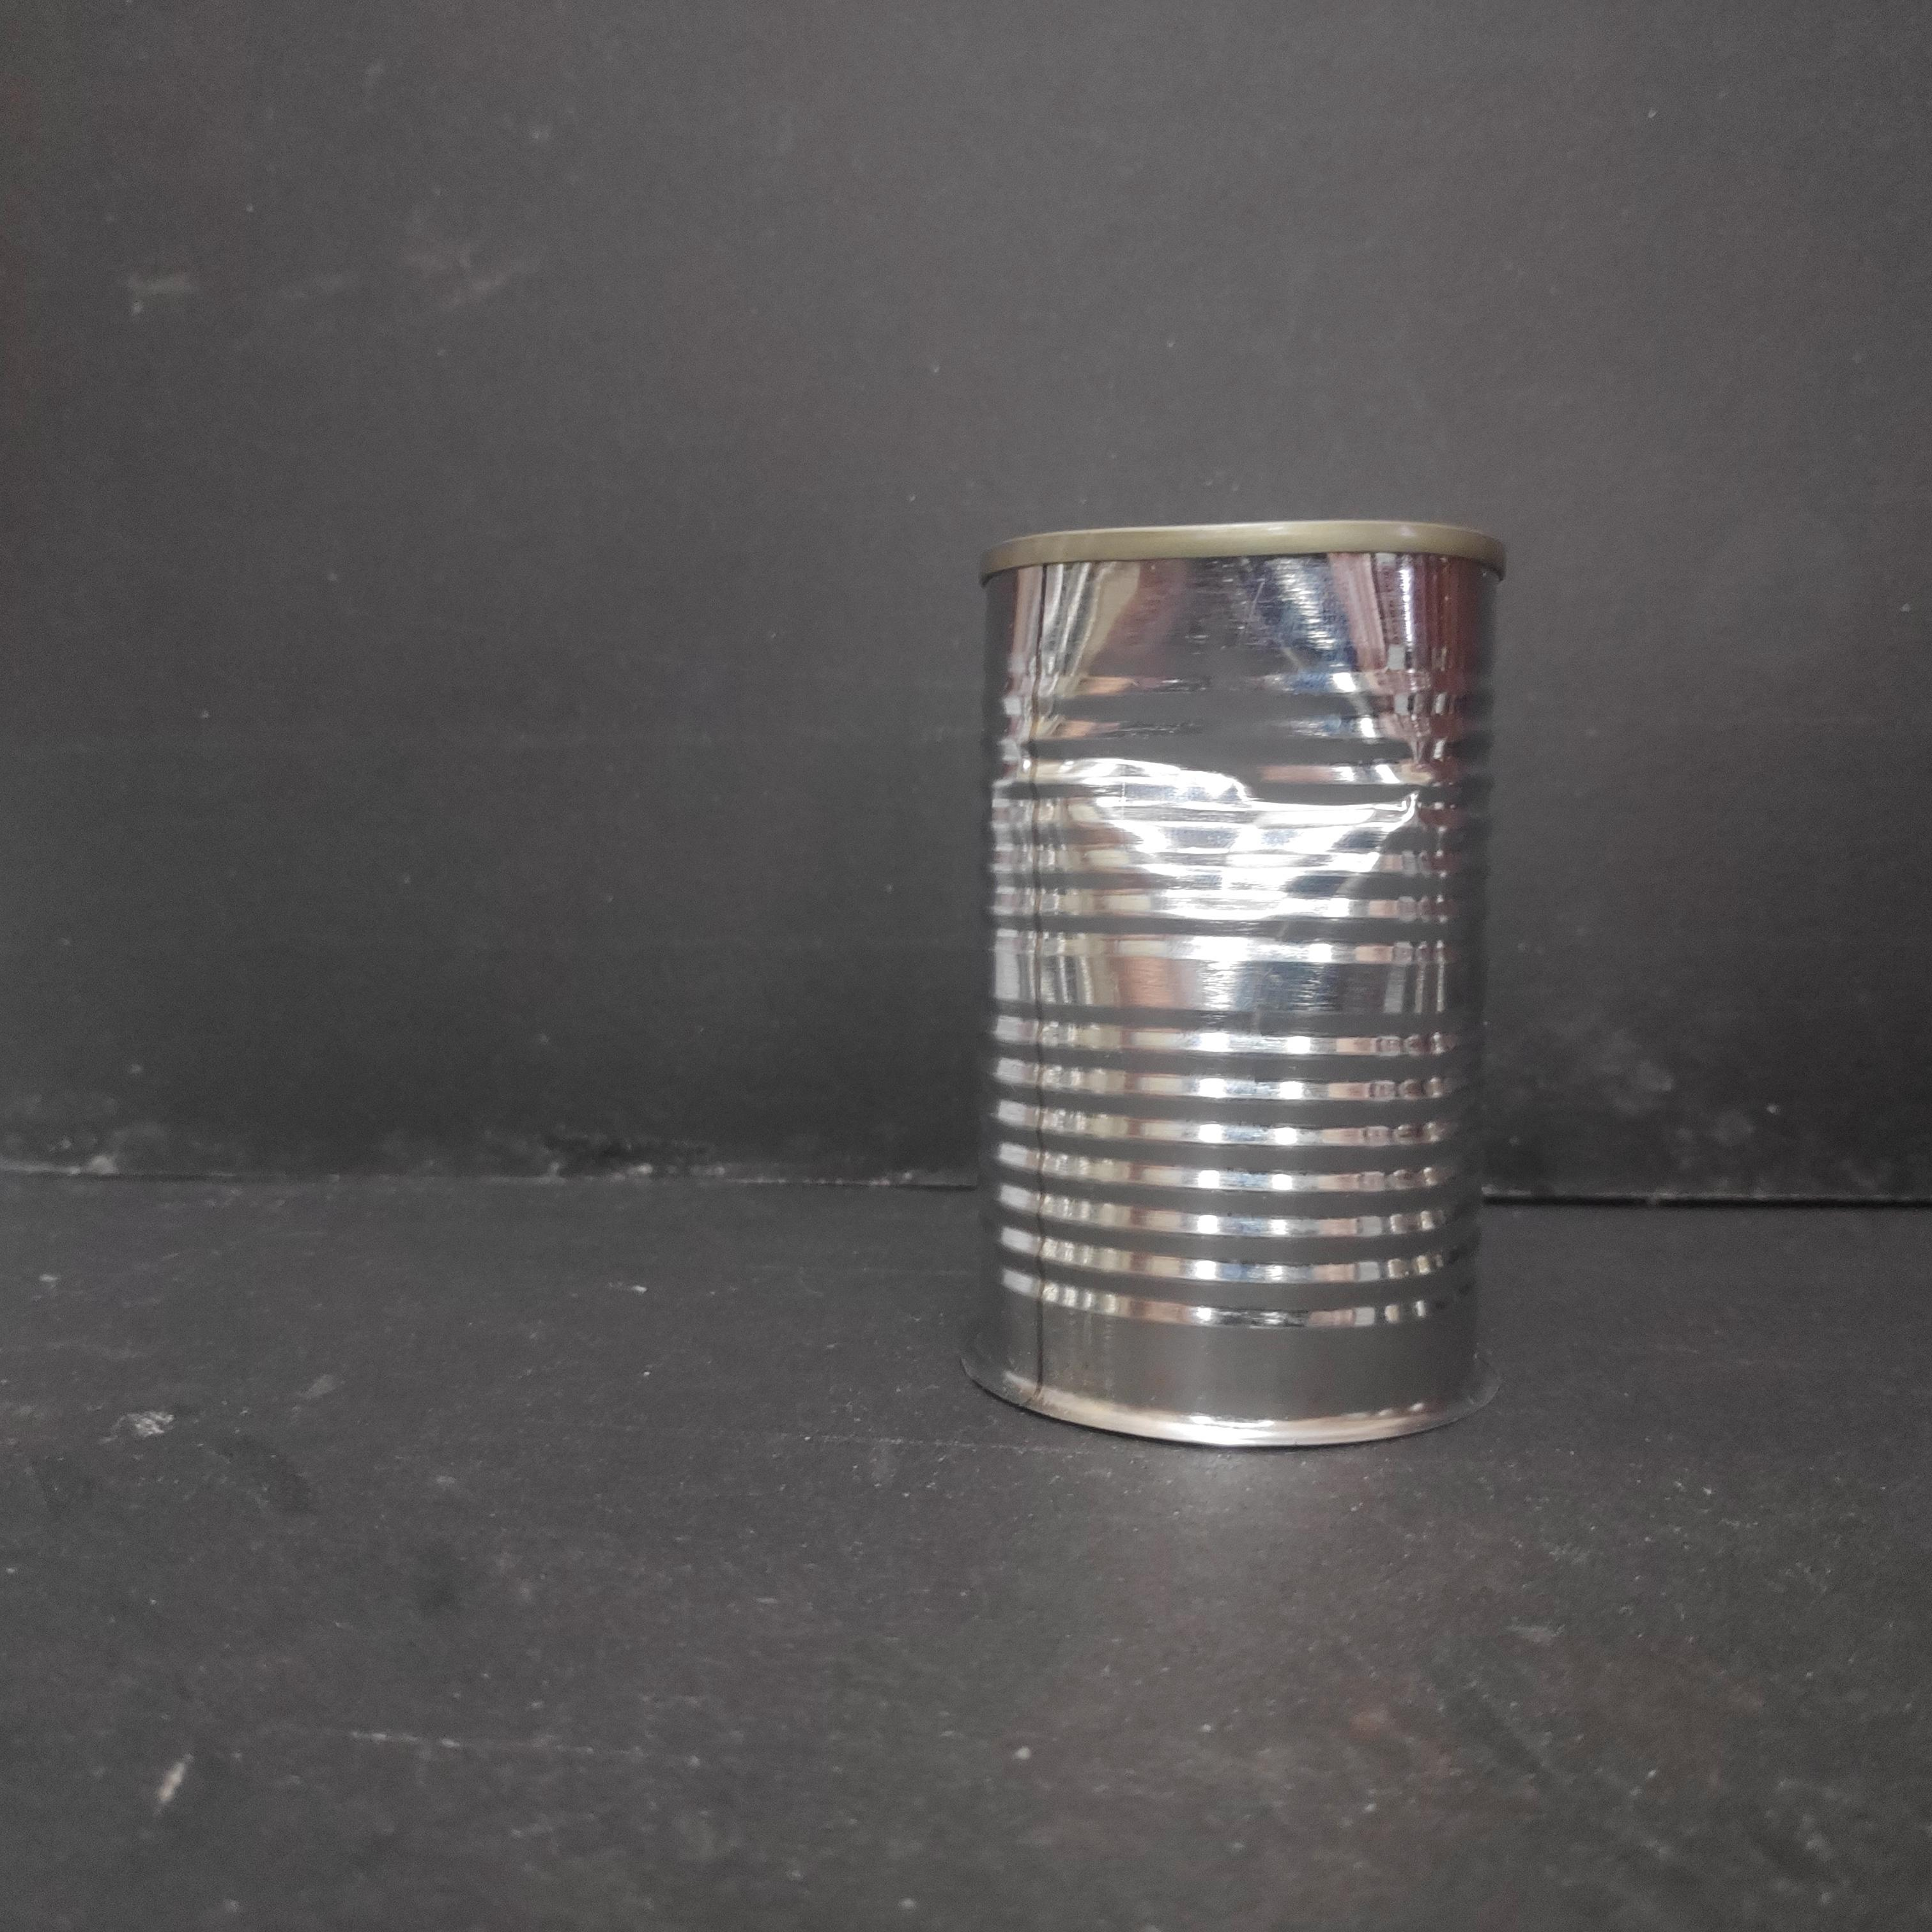Minor Defect: (966, 511, 1511, 1468)
